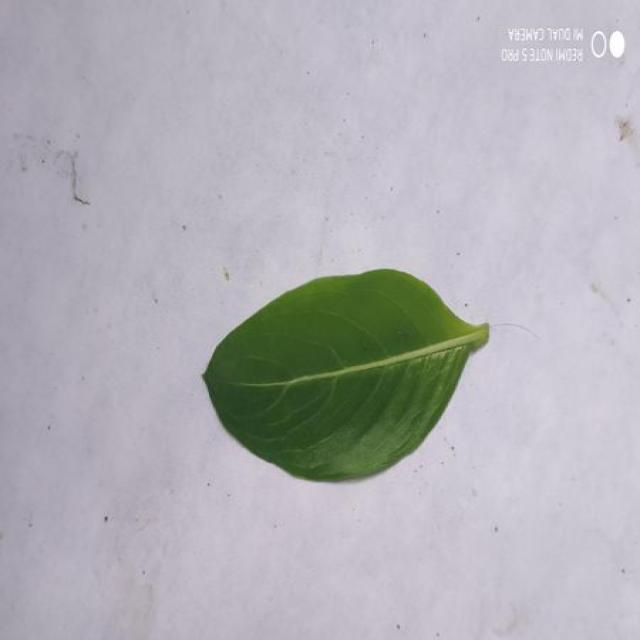catharanthus: (203, 269, 488, 481)
